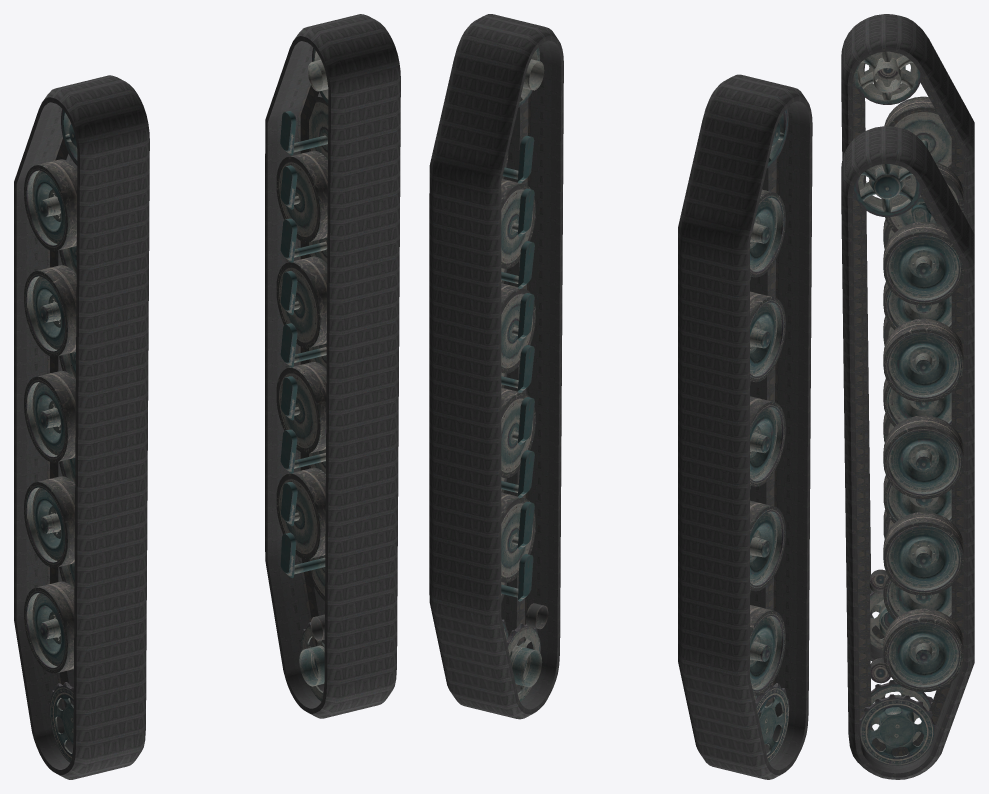
File: Chassis.glb
The picture shows the model from 3 angles, left to right: view 1: azimuth 30°, elevation 25°; view 2: azimuth 150°, elevation 25°; view 3: azimuth 270°, elevation 25°; orthographic projection. The views are drawn at different scales.
Visible parts, largest first — view 1: set_0_group_0, set_1_group_0, set_3_group_0, set_2_group_0; view 2: set_0_group_0, set_1_group_0, set_3_group_0, set_2_group_0; view 3: set_3_group_0, set_1_group_0, set_0_group_0, set_2_group_0.
Boxes of the visible parts, x1=… form: set_0_group_0: x1=14, y1=75, x2=149, y2=779; set_1_group_0: x1=265, y1=14, x2=400, y2=718; set_3_group_0: x1=276, y1=48, x2=328, y2=701; set_2_group_0: x1=24, y1=109, x2=77, y2=762; set_0_group_0: x1=678, y1=74, x2=812, y2=779; set_1_group_0: x1=429, y1=14, x2=563, y2=719; set_3_group_0: x1=501, y1=47, x2=548, y2=701; set_2_group_0: x1=750, y1=108, x2=789, y2=762; set_3_group_0: x1=853, y1=164, x2=963, y2=765; set_1_group_0: x1=841, y1=126, x2=974, y2=779; set_0_group_0: x1=841, y1=14, x2=974, y2=661; set_2_group_0: x1=853, y1=51, x2=963, y2=650.
Bounding box in the file's own units: 3.41 × 6.97 × 1.34.
4 materials, 4 textured.
